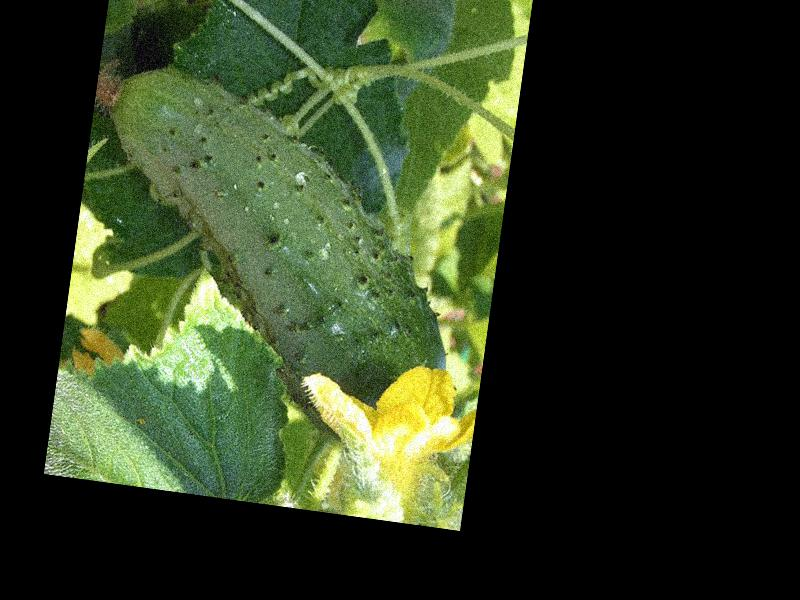Cucumber: (54, 57, 481, 455)
